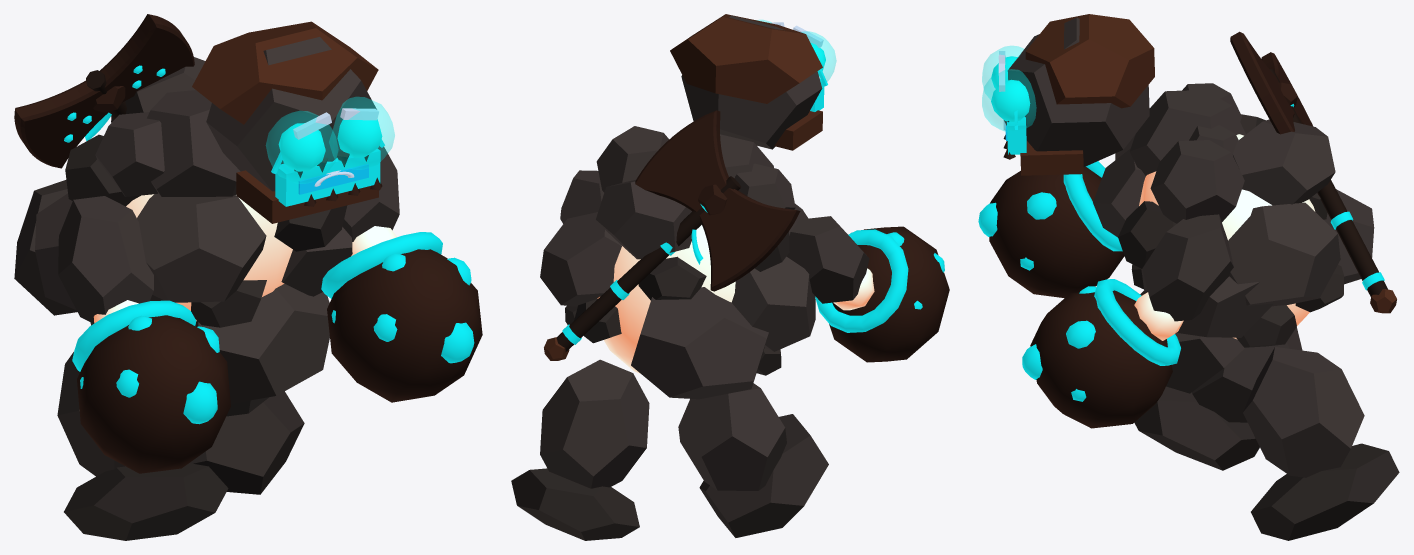
Rendered from slag_alt1.glb.
3 renders of one model, left to right at view 1: azimuth 30°, elevation 25°; view 2: azimuth 150°, elevation 25°; view 3: azimuth 270°, elevation 25°, orthographic. The views are drawn at different scales.
Size of the model in its own units: 2.33 by 2.99 by 2.4.
